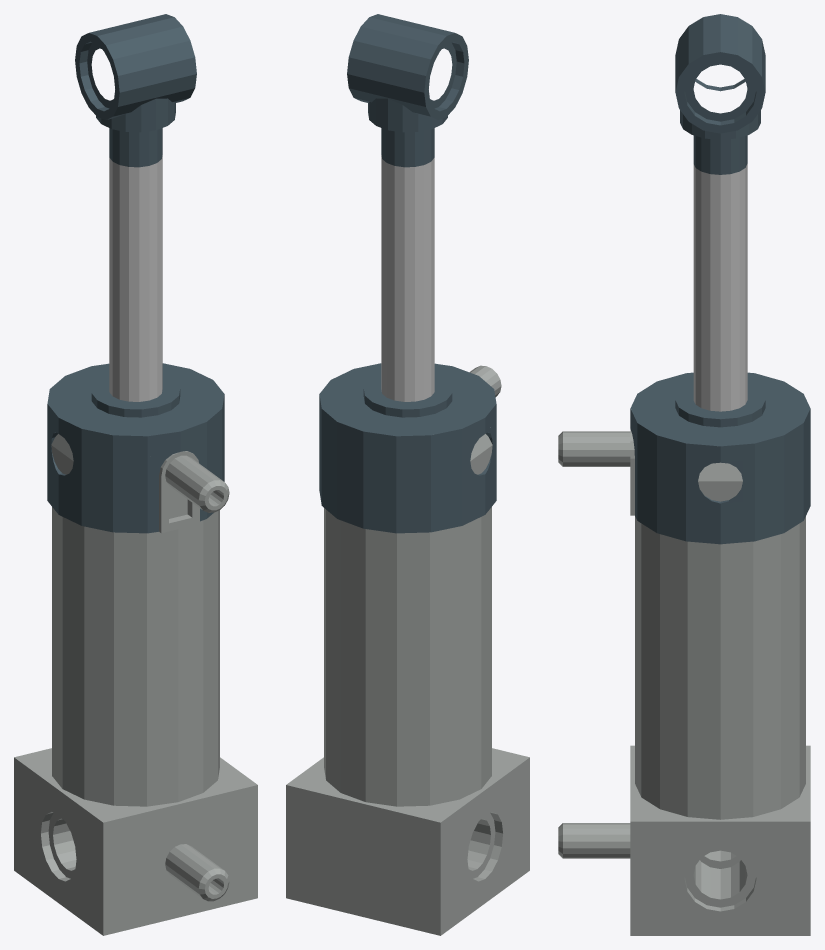
3 renders of one model, left to right at view 1: azimuth 30°, elevation 25°; view 2: azimuth 150°, elevation 25°; view 3: azimuth 270°, elevation 25°, orthographic.
Parts seen in each view (by area): view 1: world; view 2: world; view 3: world.
Part boxes in pixels (box(x1,y1,x2,y2)): world: box(14, 14, 257, 935); world: box(286, 14, 529, 935); world: box(558, 14, 810, 935).
Bounding box in the file's own units: 0.016 × 0.0848 × 0.0224.
